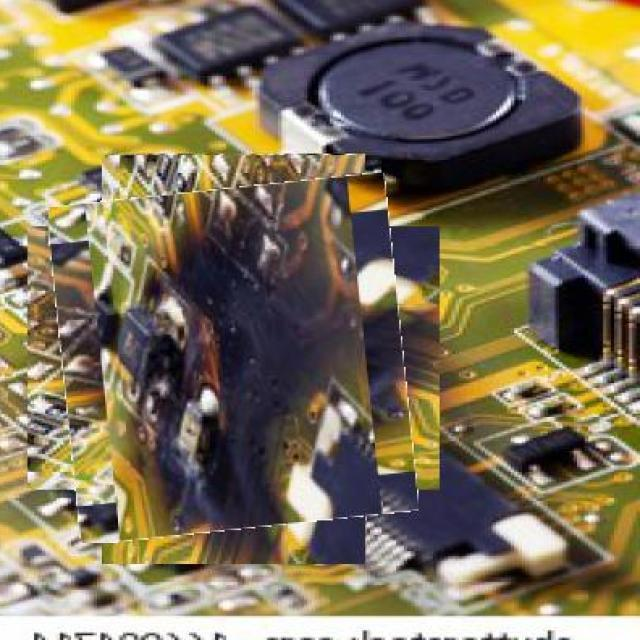Burn: (54, 181, 410, 537)
